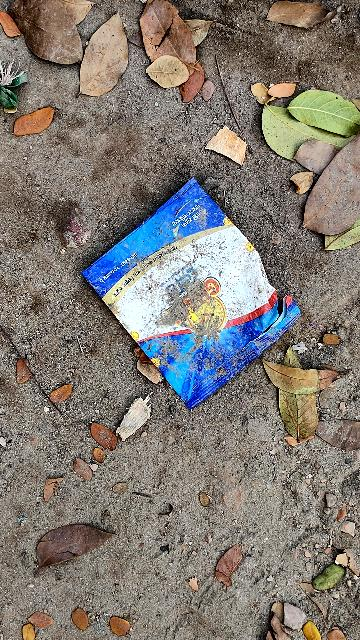packet: (73, 186, 304, 421)
